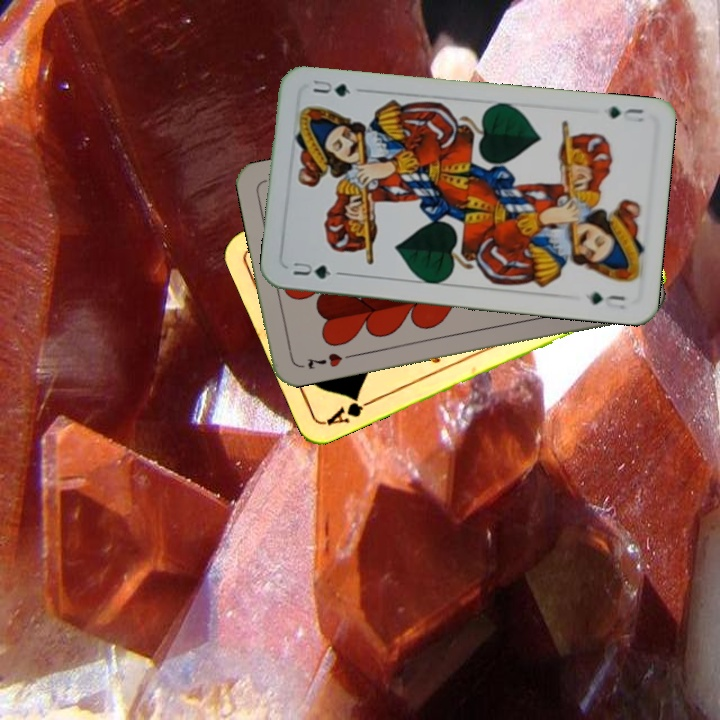GA: (322, 391, 378, 429)
GU: (289, 258, 334, 282), (604, 102, 646, 125)
H7: (303, 348, 345, 372)
